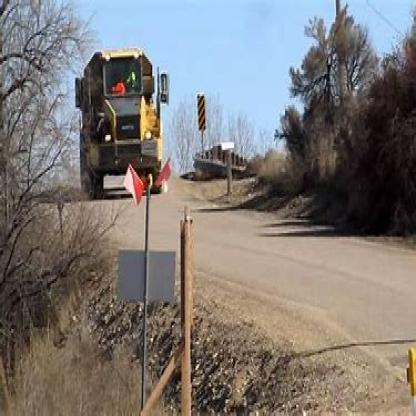dump_truck: (62, 39, 175, 205)
